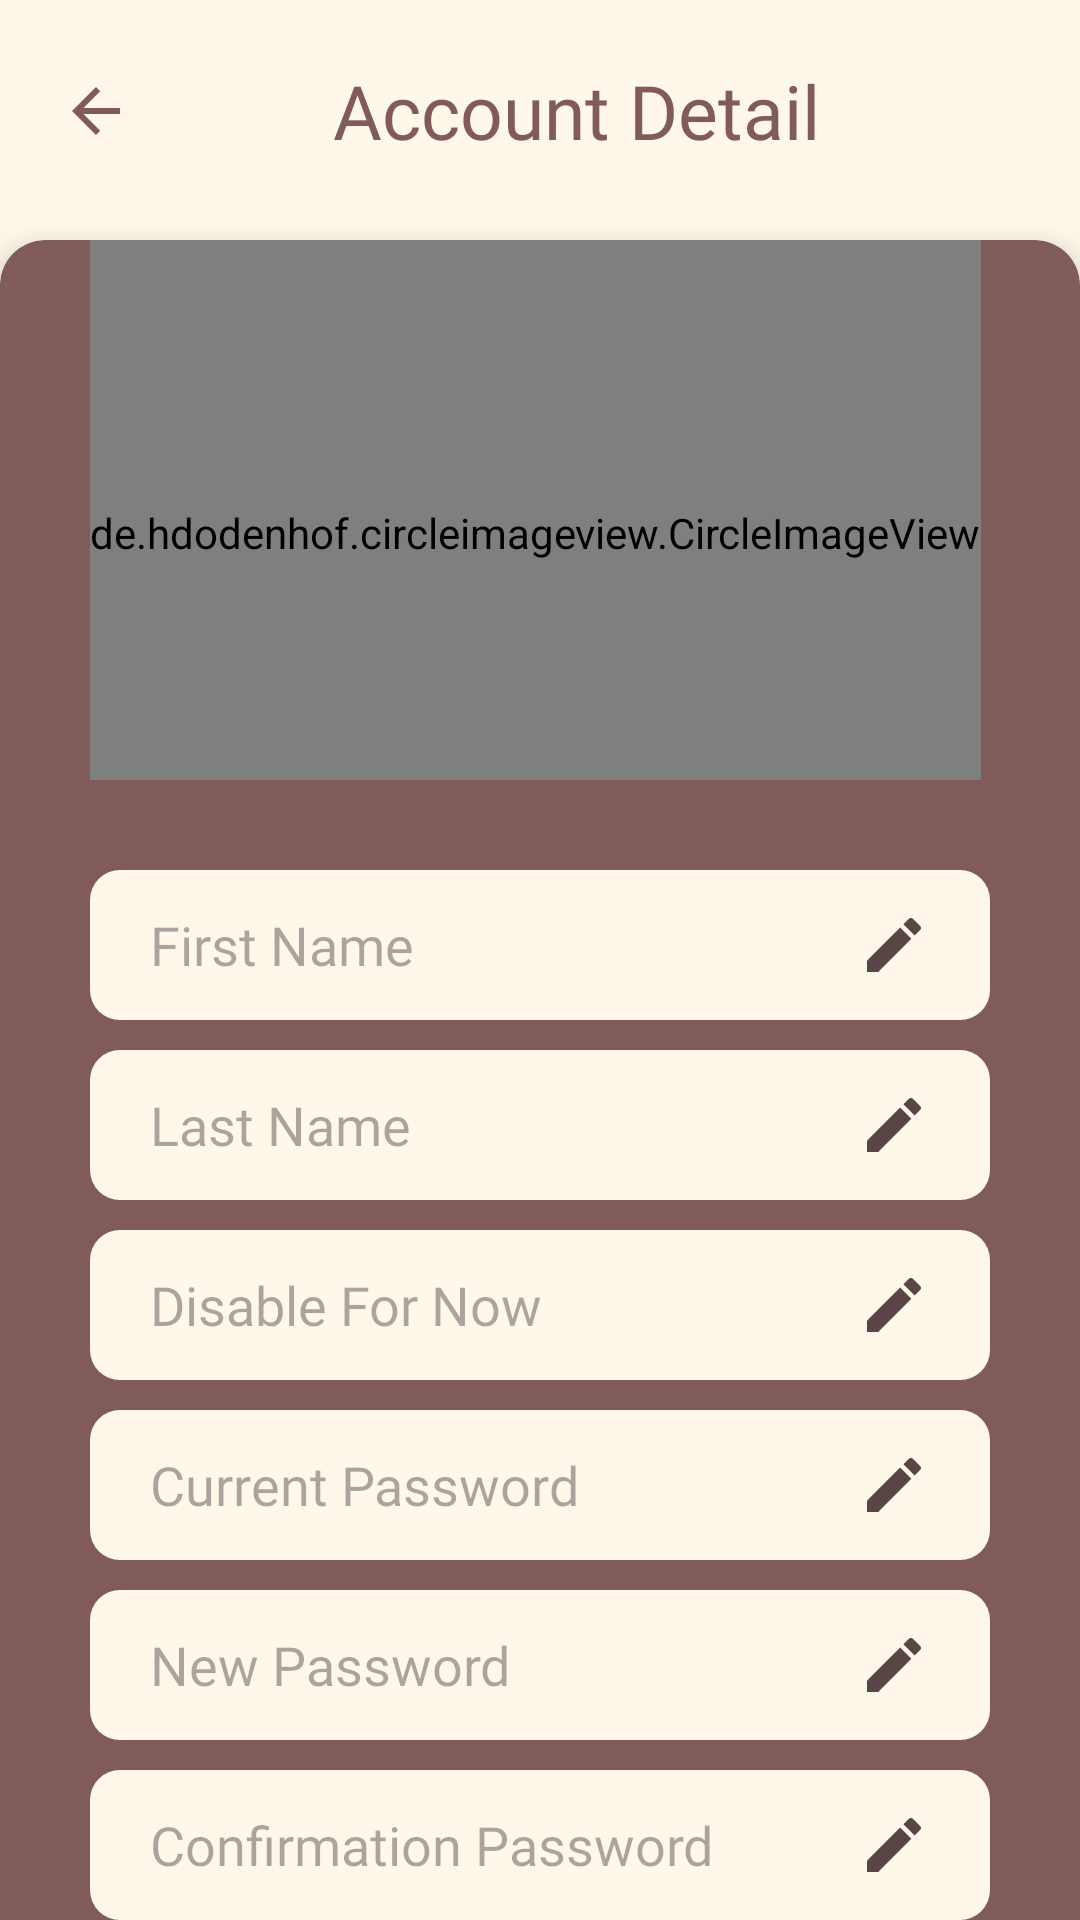

Where to tap for icons on this 1080px×1920px app screen, as [x,y]:
back arrow: [96,111]
